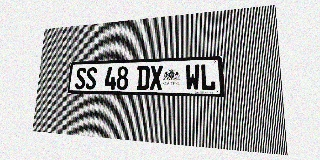4: (104, 66, 117, 90)
8: (116, 66, 129, 90)
D: (137, 66, 150, 90)
L: (200, 64, 216, 91)
S: (75, 67, 87, 89), (85, 67, 97, 89)
W: (185, 64, 200, 91)
X: (149, 65, 163, 90)
